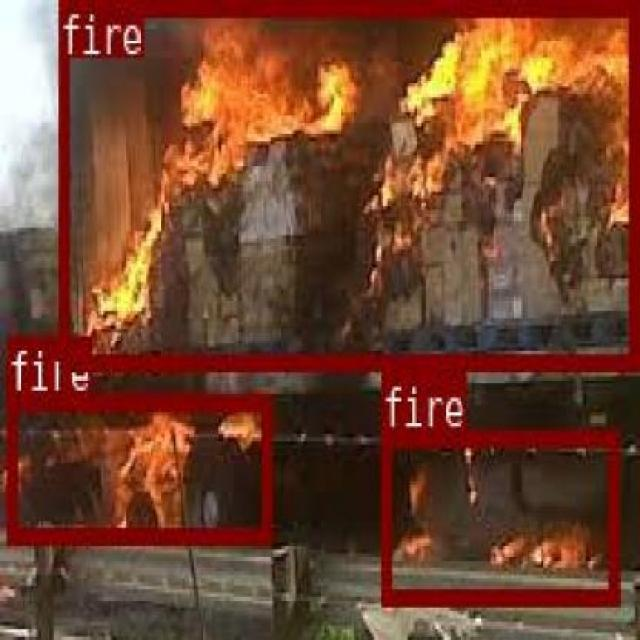Fire: (55, 0, 636, 365), (378, 428, 616, 604), (4, 393, 270, 542)
